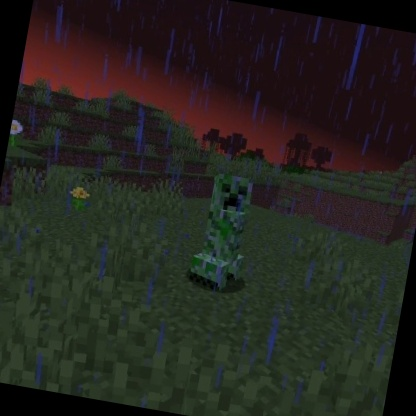creeper: (181, 168, 262, 299)
